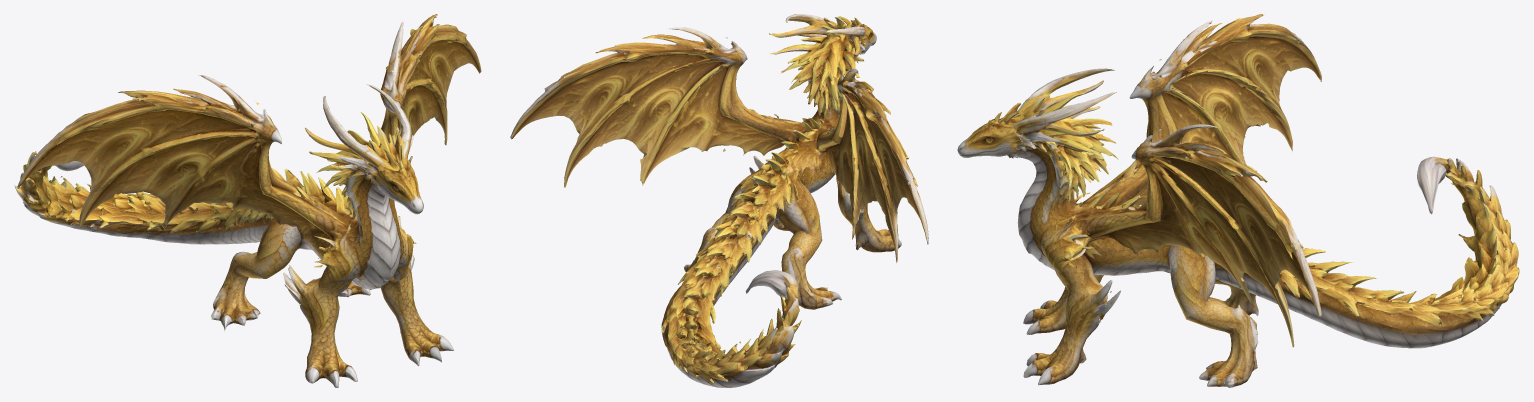
Rendered from sand_dragon2.glb.
The picture shows the model from 3 angles, left to right: view 1: azimuth 30°, elevation 25°; view 2: azimuth 150°, elevation 25°; view 3: azimuth 270°, elevation 25°; orthographic projection. The views are drawn at different scales.
Parts seen in each view (by area): view 1: Mesh_0; view 2: Mesh_0; view 3: Mesh_0.
Part boxes in pixels (box(x1,y1,x2,y2)): Mesh_0: box(14, 14, 481, 387); Mesh_0: box(510, 14, 928, 387); Mesh_0: box(957, 14, 1519, 387).
Bounding box in the file's own units: 1.89 × 1.03 × 1.87.
Materials: 1 (1 with a texture image).
